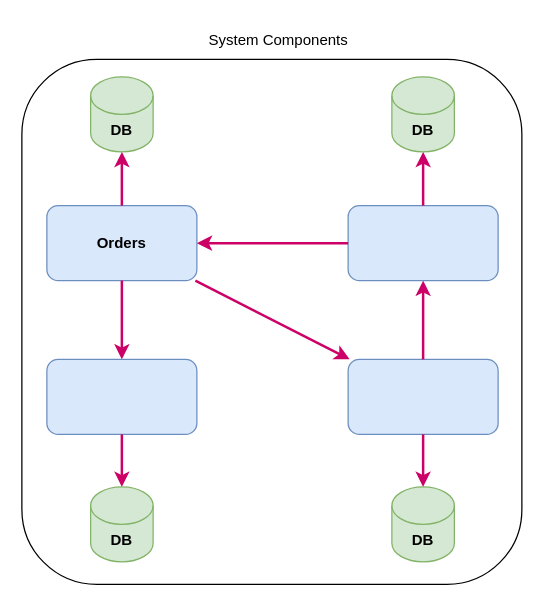
The diagram is 544 pixels wide and 606 high, and some of its shapes have lost their labels. The centre of each missing label's shape, as x and y in pixels:
Customer: point 422,396
Inventory: point 121,396
Payment: point 422,242
